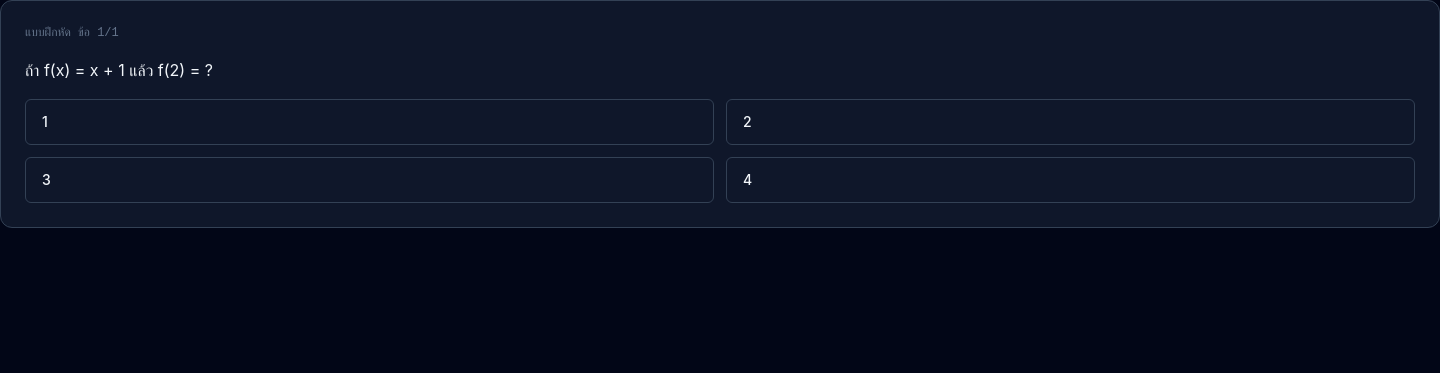
Test: incorrect choice shows explanation
Click the button "1" at (45, 122), box [25, 99, 714, 145]
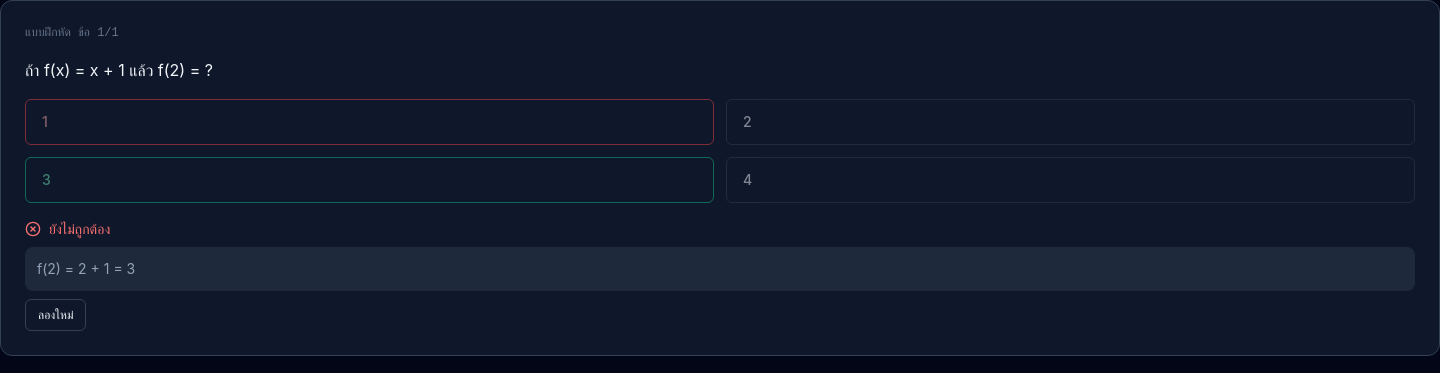
expect the text "f(2) = 2 + 1 = 3" is shown: met, box [25, 247, 1415, 291]
